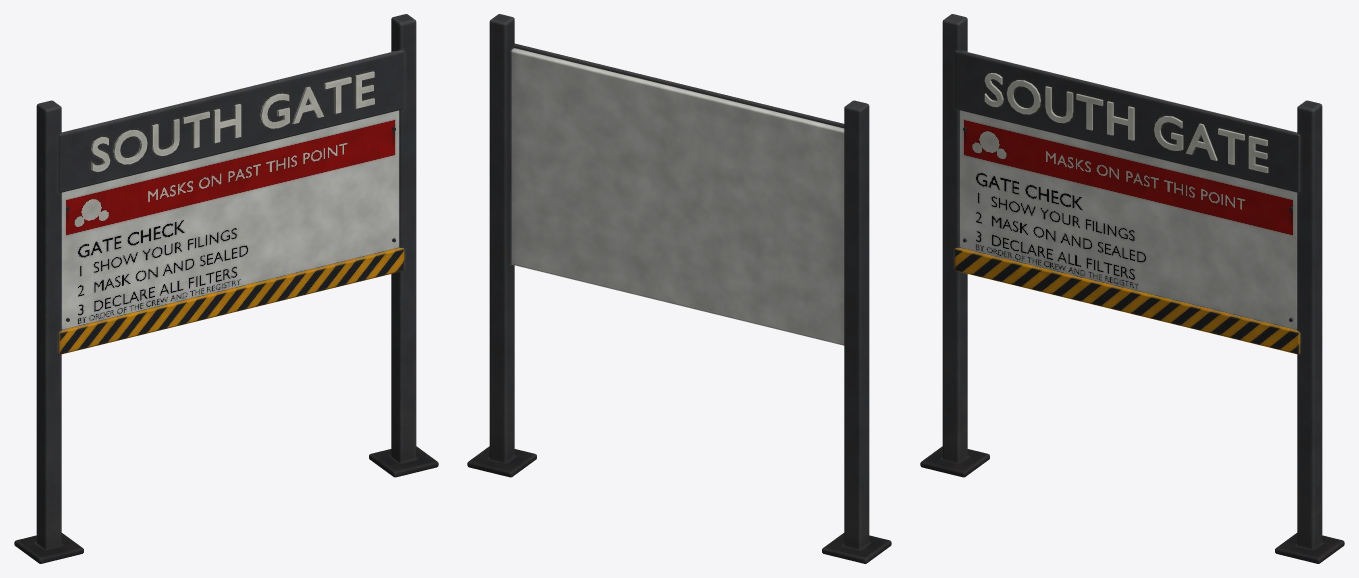
The model's file is sign_south_gate.glb.
The picture shows the model from 3 angles, left to right: view 1: azimuth 30°, elevation 25°; view 2: azimuth 150°, elevation 25°; view 3: azimuth 330°, elevation 25°; orthographic projection.
Visible parts, largest first — view 1: sign_south_gate; view 2: sign_south_gate; view 3: sign_south_gate.
Part boxes in pixels (<box>): sign_south_gate: <box>14,14,438,563</box>; sign_south_gate: <box>467,14,891,563</box>; sign_south_gate: <box>920,14,1344,563</box>.
Bounding box in the file's own units: 2.82 × 3 × 0.32.
Materials: 1 (1 with a texture image).
